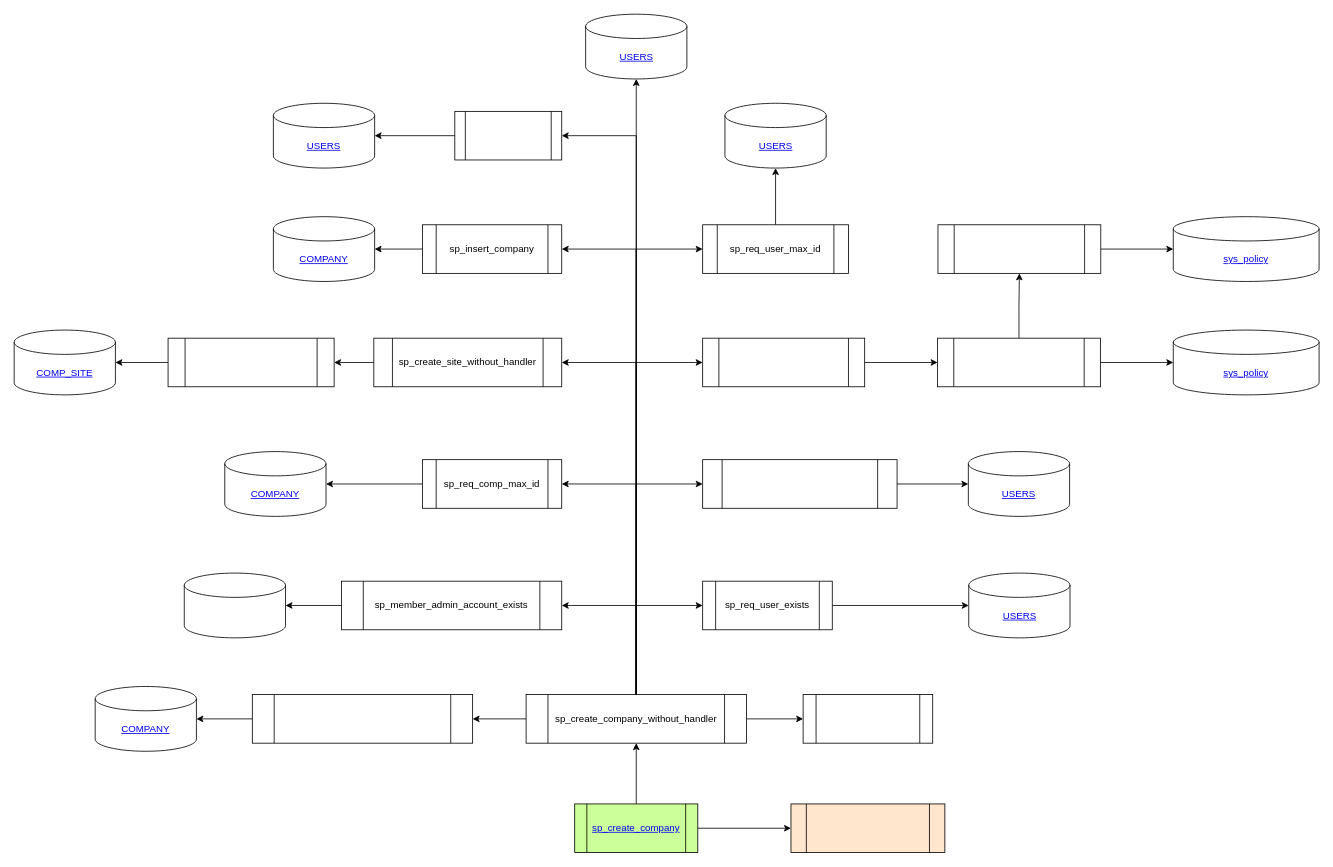
This 1333x867 diagram has some shape labels left out. The centre of each missing label's shape, as x and y in pixels:
sp_insert_user: the point at 508,135
sp_req_comp_site_max_id: the point at 250,362
sp_req_current_time: the point at 867,718
sp_req_policy_direction: the point at 1018,362
sp_req_policy_exists: the point at 1019,248
sp_req_use_same_company_reg_id: the point at 362,718
sp_req_use_same_phone: the point at 783,362
sp_req_user_regid_by_user_id: the point at 799,483
sp_return_results: the point at 867,828
V_USERS: the point at 234,605
